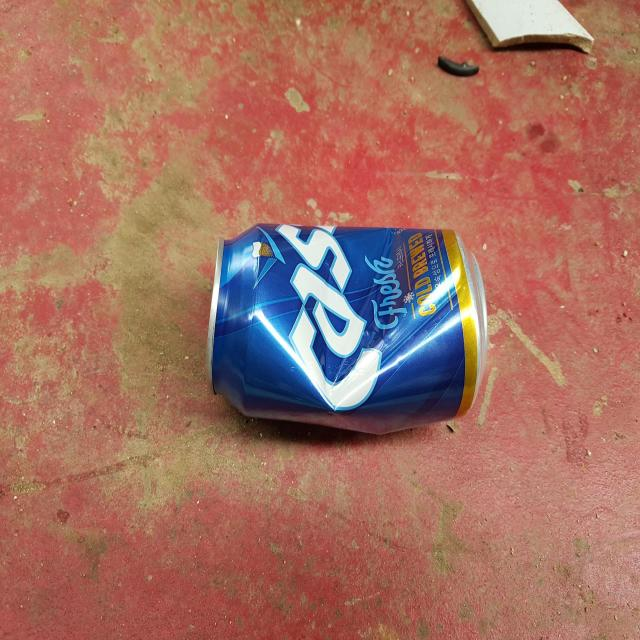can: (207, 224, 489, 434)
